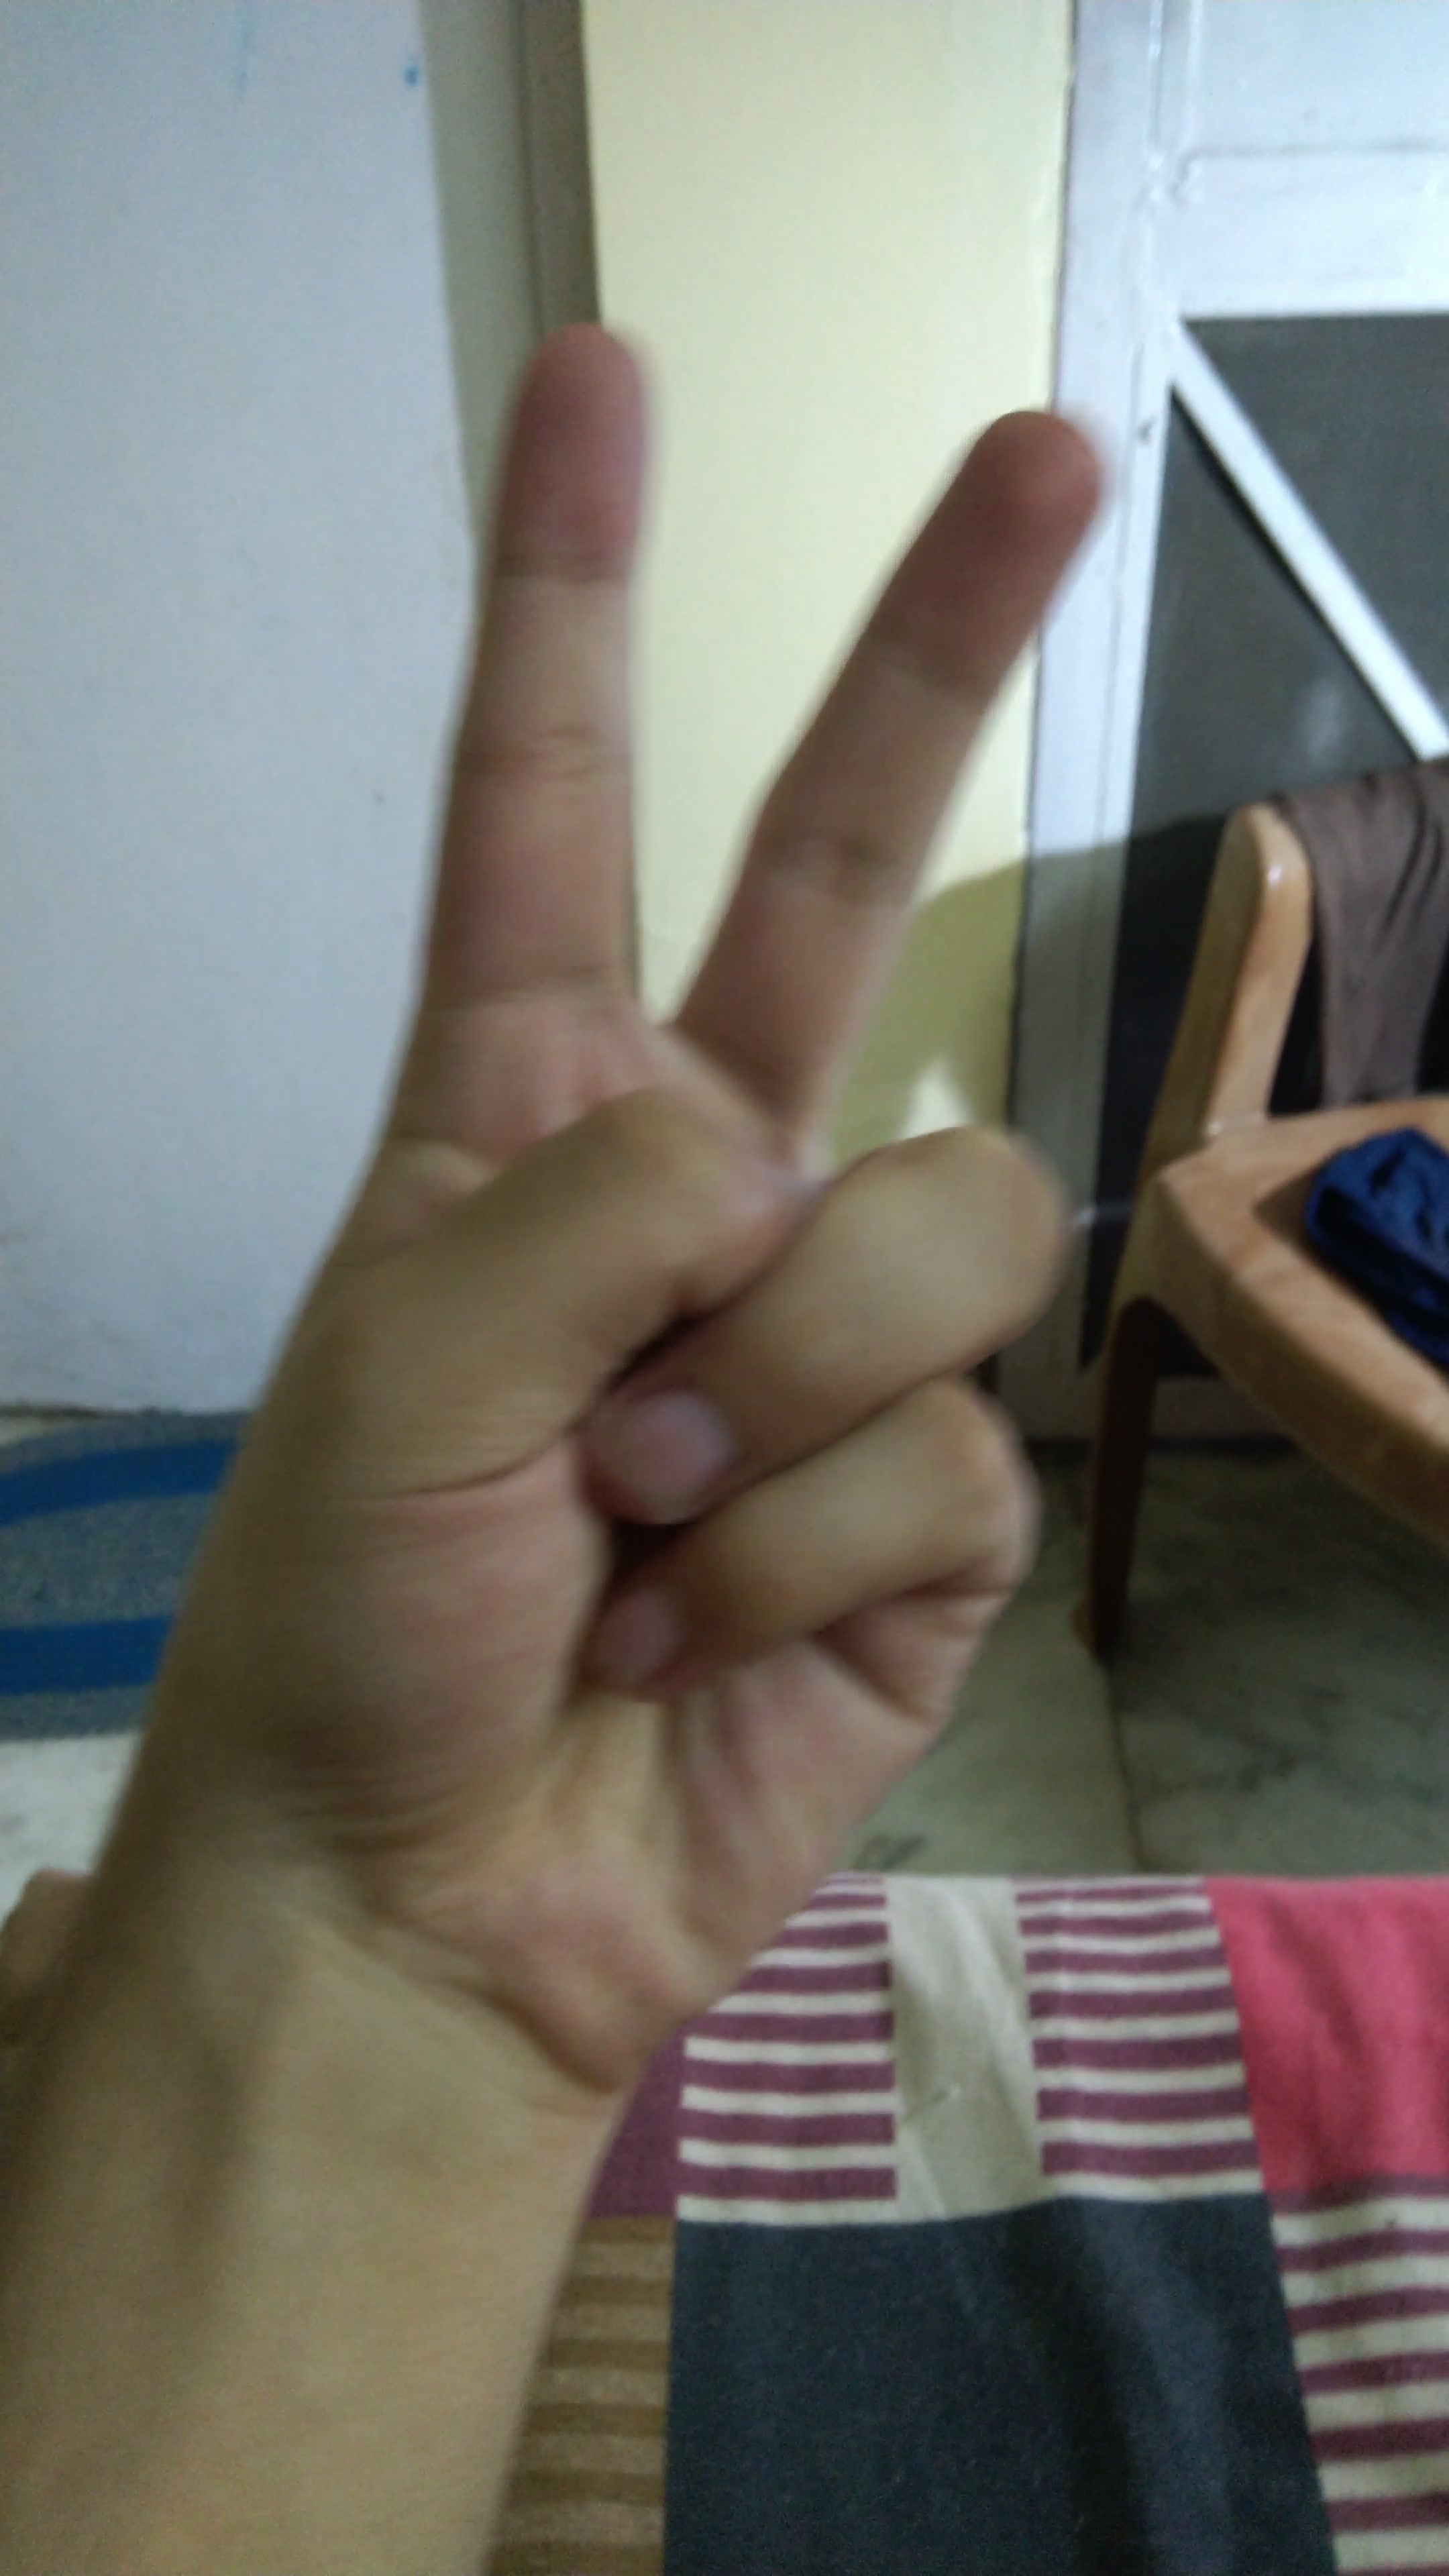hand: (80, 269, 1237, 2151)
